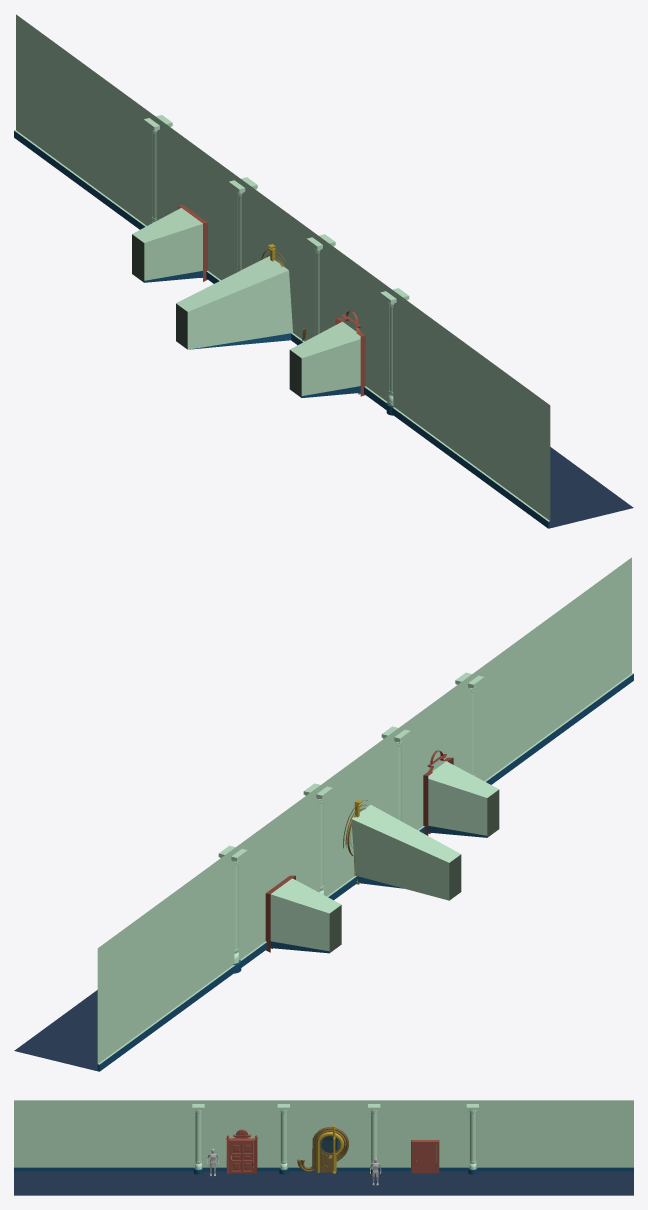
Rendered from Hallway.fbx.
3 renders of one model, top to bottom at view 1: azimuth 30°, elevation 25°; view 2: azimuth 150°, elevation 25°; view 3: azimuth 270°, elevation 25°, orthographic. The views are drawn at different scales.
Parts seen in each view (by area): view 1: Hallway, Column.001; view 2: Hallway, Column.003, Column.002; view 3: Hallway, Door1.001, Door1.005, Column.003, Door1, DoorNouveu.001, Column, Column.001, DoorNouveu, DoorNouveu.002, Column.002, Door1.004 (+2 smaller).
Boxes of the visible parts, x1=… form: Hallway: x1=14, y1=14, x2=633, y2=528; Column.001: x1=380, y1=288, x2=409, y2=415; Hallway: x1=14, y1=557, x2=633, y2=1071; Column.003: x1=218, y1=845, x2=247, y2=973; Column.002: x1=303, y1=783, x2=332, y2=894; Hallway: x1=14, y1=1100, x2=633, y2=1195; Door1.001: x1=230, y1=1142, x2=253, y2=1173; Door1.005: x1=413, y1=1144, x2=436, y2=1173; Column.003: x1=466, y1=1104, x2=478, y2=1174; Door1: x1=226, y1=1129, x2=257, y2=1173; DoorNouveu.001: x1=297, y1=1127, x2=348, y2=1171; Column: x1=277, y1=1104, x2=289, y2=1174; Column.001: x1=192, y1=1104, x2=204, y2=1174; DoorNouveu: x1=316, y1=1124, x2=344, y2=1173; DoorNouveu.002: x1=320, y1=1135, x2=333, y2=1172; Column.002: x1=368, y1=1104, x2=380, y2=1174; Door1.004: x1=411, y1=1140, x2=439, y2=1173.
Bounding box in the file's own units: 731 × 3769 × 490.
